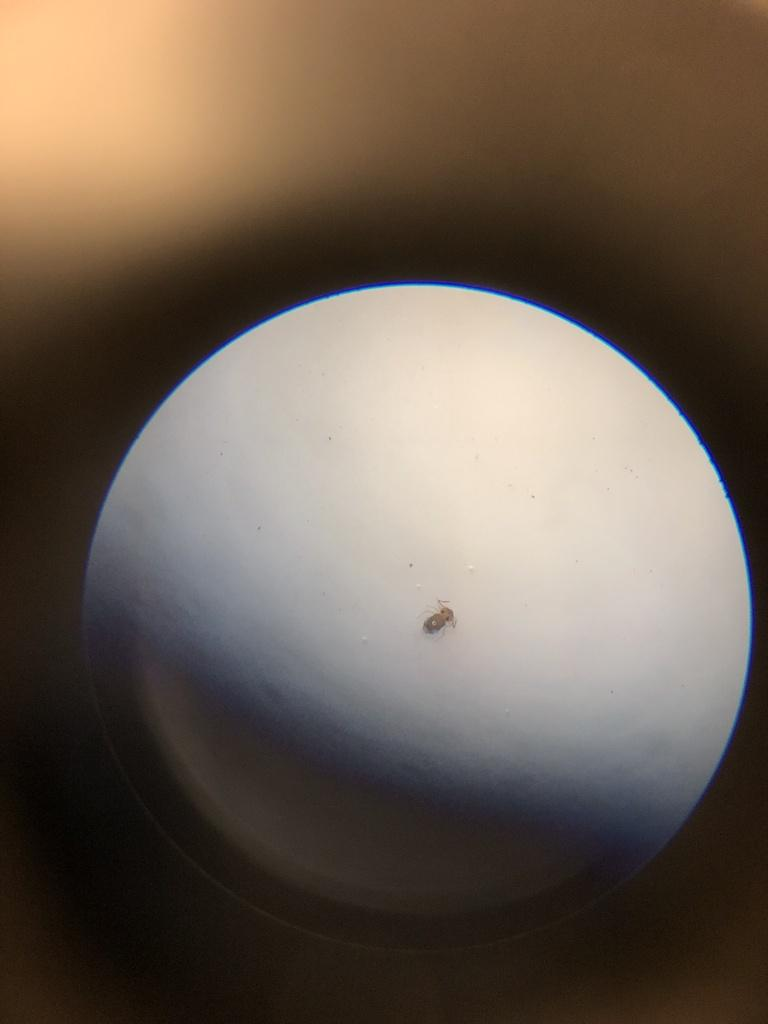tiny_pests: (415, 585, 466, 645)
